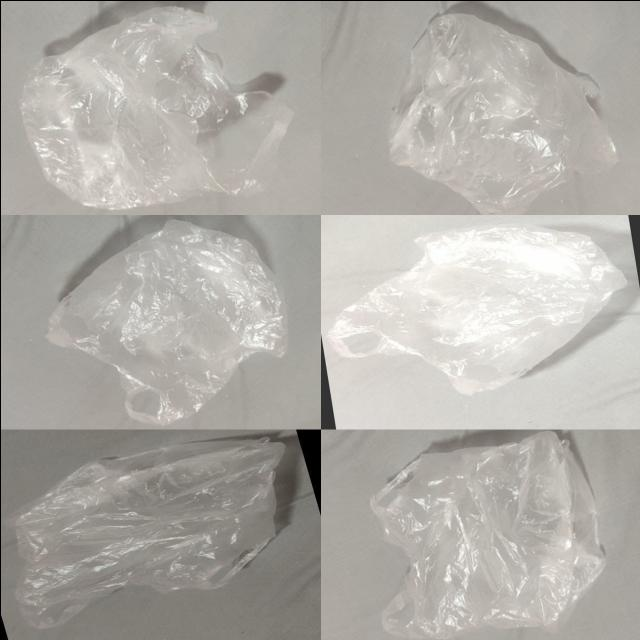plastik: (20, 6, 292, 208), (9, 437, 283, 628), (326, 225, 626, 394), (45, 219, 286, 424), (370, 431, 604, 638), (388, 13, 617, 213)
